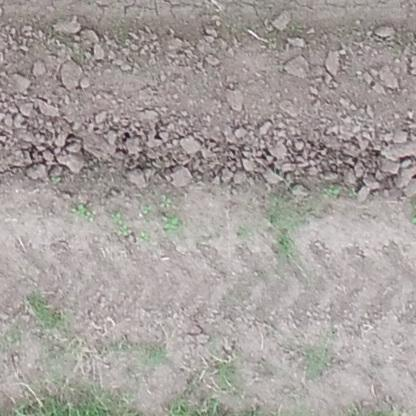vc: (70, 201, 94, 218), (159, 194, 173, 210), (50, 172, 63, 189)
